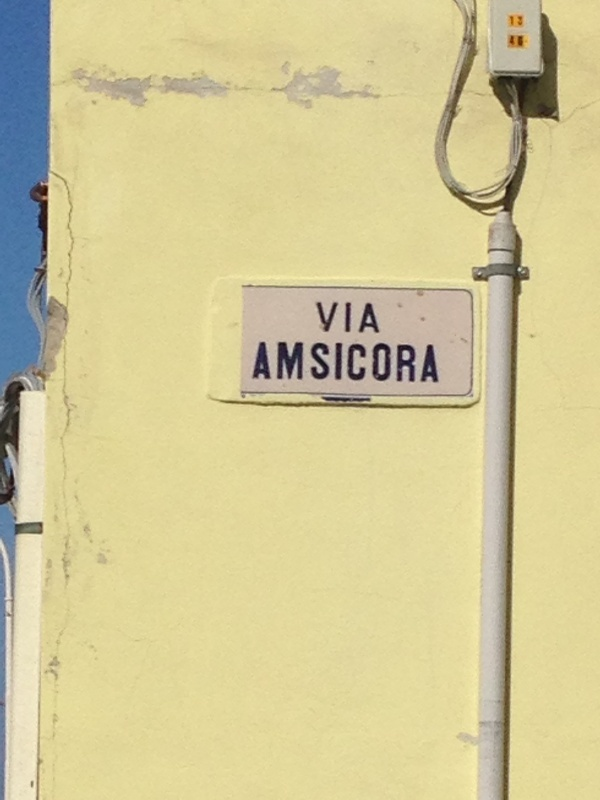text: (273, 342, 288, 386), (289, 342, 304, 386), (305, 342, 320, 386), (321, 342, 336, 386), (337, 342, 352, 386), (353, 342, 368, 386), (369, 342, 384, 386), (385, 342, 400, 386), (401, 342, 416, 386), (417, 342, 432, 386), (321, 302, 336, 335), (337, 302, 352, 335), (353, 302, 368, 335), (261, 342, 272, 386), (369, 302, 382, 335), (433, 342, 441, 386), (314, 302, 320, 335), (513, 35, 524, 47), (513, 15, 523, 26), (510, 15, 512, 26), (511, 35, 512, 47)
